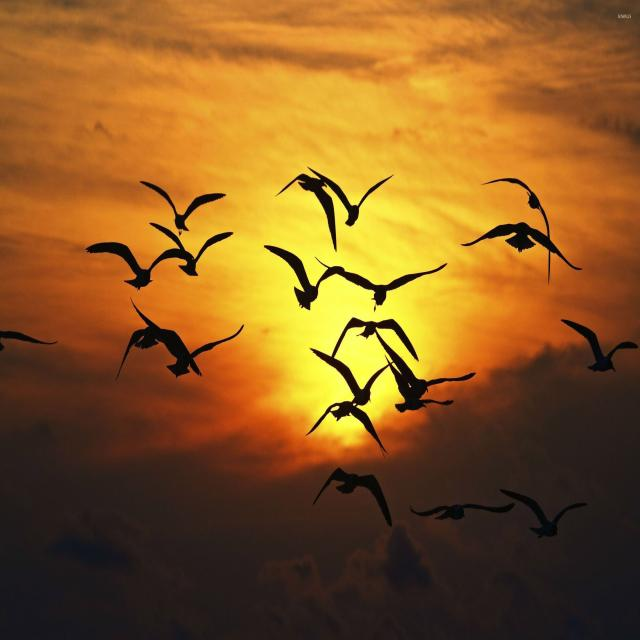bird: (373, 330, 480, 414), (120, 318, 248, 384), (480, 167, 554, 278), (459, 222, 584, 286), (304, 336, 388, 414), (315, 266, 445, 313), (269, 172, 341, 254), (260, 244, 341, 316), (80, 242, 194, 292), (136, 174, 227, 236), (499, 483, 590, 543), (306, 166, 392, 226), (152, 218, 232, 280), (308, 400, 389, 459), (312, 470, 394, 528), (561, 318, 640, 376), (329, 315, 420, 358), (409, 495, 510, 531)
